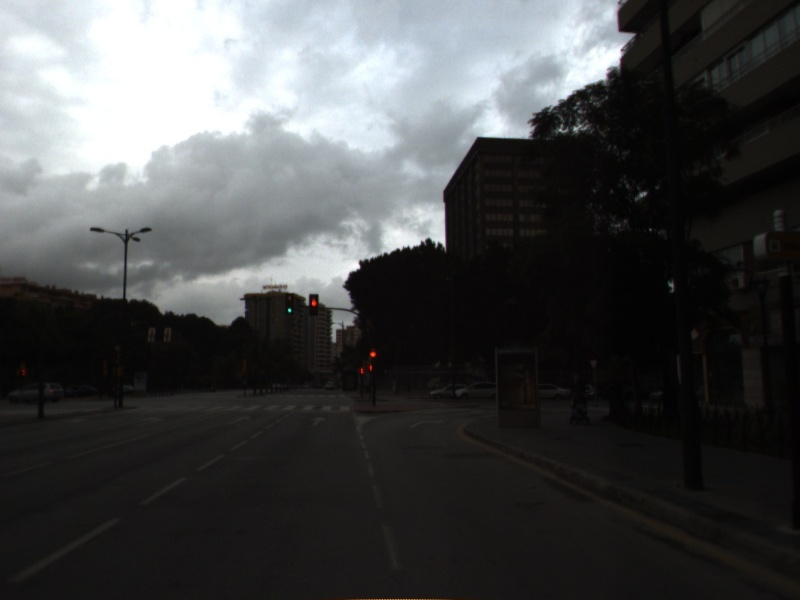RIGHT: (406, 416, 447, 431)
STRAIGHT: (224, 413, 253, 427), (306, 415, 330, 428)
